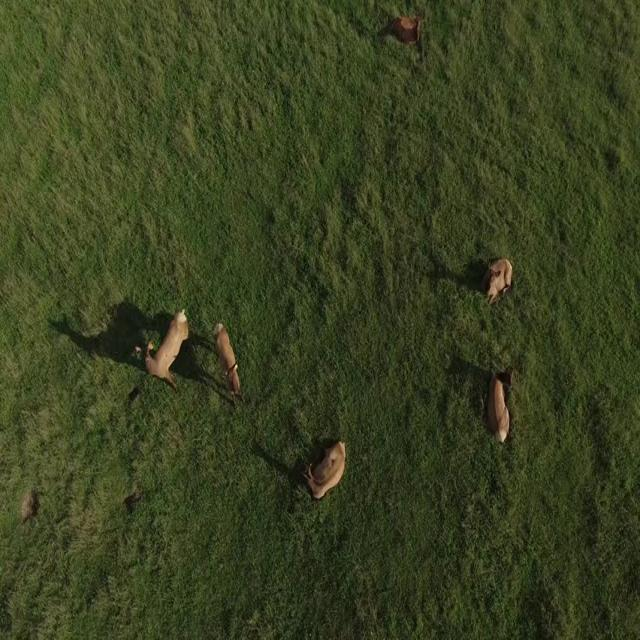deer: (270, 421, 388, 530), (116, 289, 215, 411), (455, 348, 543, 465), (192, 301, 263, 418), (458, 233, 531, 322)
